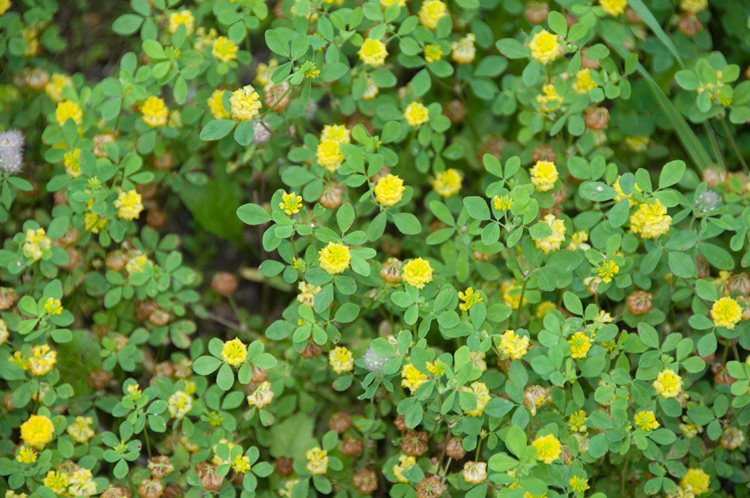clover: (5, 6, 744, 498)
